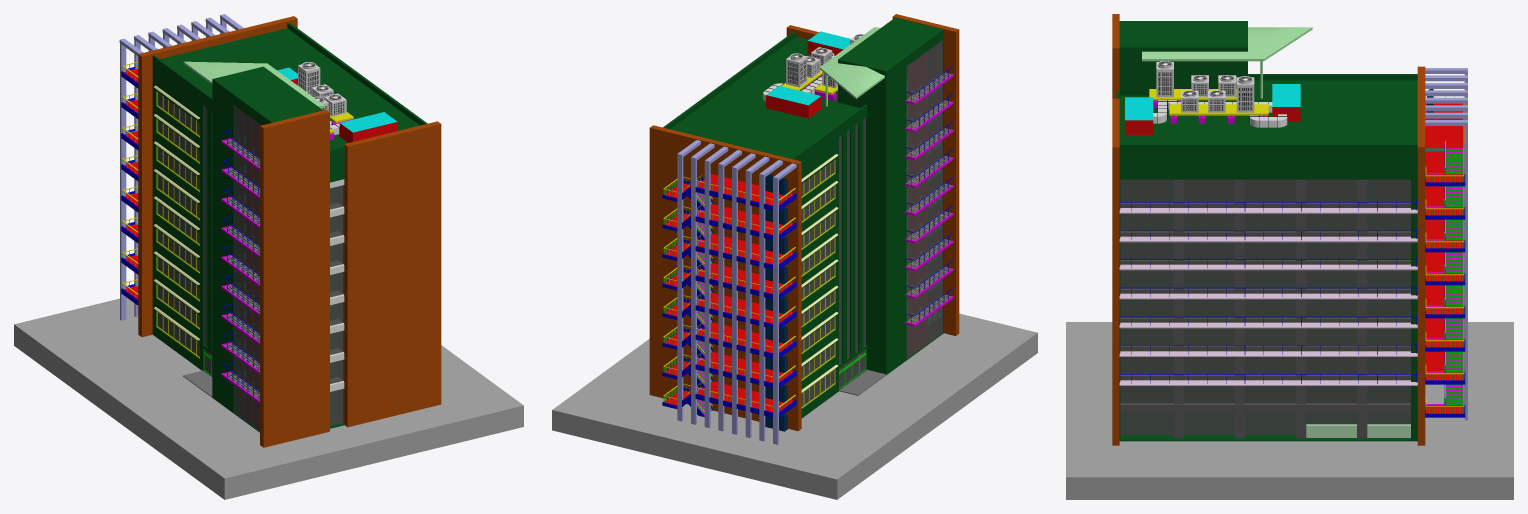
File: building6_high3.fbx
3 views of the same model, side by side, from view 1: azimuth 30°, elevation 25°; view 2: azimuth 150°, elevation 25°; view 3: azimuth 270°, elevation 25° (orthographic). The views are drawn at different scales.
Parts seen in each view (by area): view 1: pCube286; view 2: pCube286; view 3: pCube286.
Part boxes in pixels (bbox=[...]): pCube286: bbox=[14, 14, 523, 499]; pCube286: bbox=[552, 14, 1037, 499]; pCube286: bbox=[1066, 14, 1513, 499].
Size of the model in its own units: 21.41 by 23.3 by 26.1.
